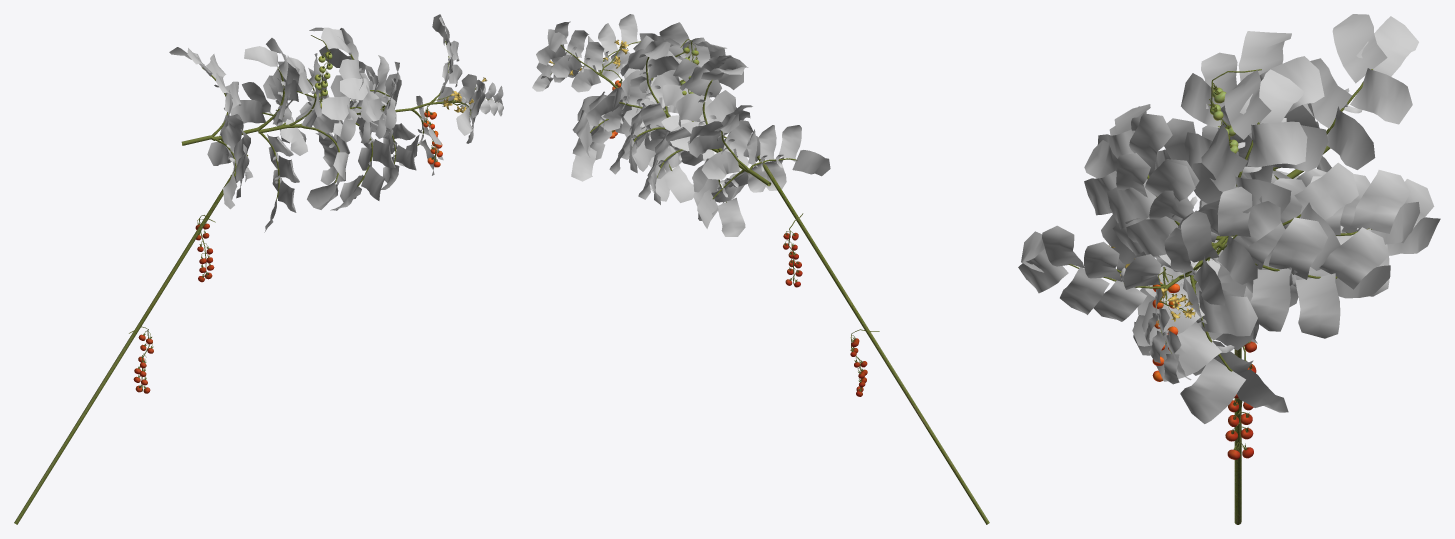
File: tomato_vine_repo_v10.dae
3 views of the same model, side by side, from view 1: azimuth 30°, elevation 25°; view 2: azimuth 150°, elevation 25°; view 3: azimuth 270°, elevation 25° (orthographic). The views are drawn at different scales.
Parts seen in each view (by area): view 1: Leaf1, Branch1, Sphere.001; view 2: Leaf1, Branch1, Sphere.001; view 3: Leaf1, Branch1, Sphere.001, Sphere.025.
Part boxes in pixels (<box>): Leaf1: <box>169,14,503,232</box>; Branch1: <box>14,35,496,524</box>; Sphere.001: <box>133,223,214,393</box>; Leaf1: <box>532,14,830,236</box>; Branch1: <box>550,39,989,524</box>; Sphere.001: <box>783,232,867,396</box>; Leaf1: <box>1018,14,1440,423</box>; Branch1: <box>1068,69,1372,524</box>; Sphere.001: <box>1225,341,1256,459</box>; Sphere.025: <box>1152,282,1179,381</box>.
Bounding box in the file's own units: 2.09 × 0.9395 × 1.76.
